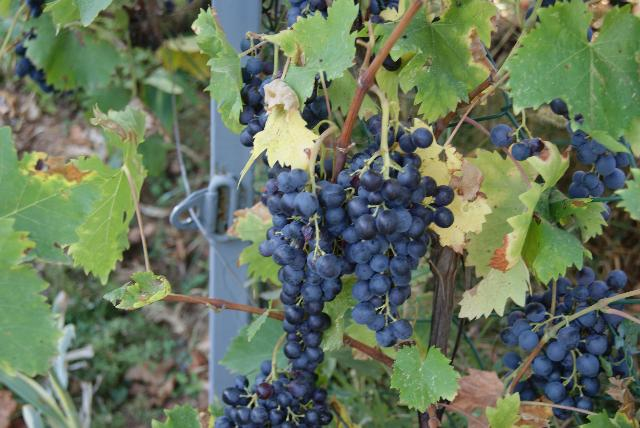grapes: (342, 152, 451, 348), (259, 164, 345, 370), (515, 268, 629, 411), (215, 360, 332, 428), (566, 122, 630, 199), (239, 55, 281, 146)
